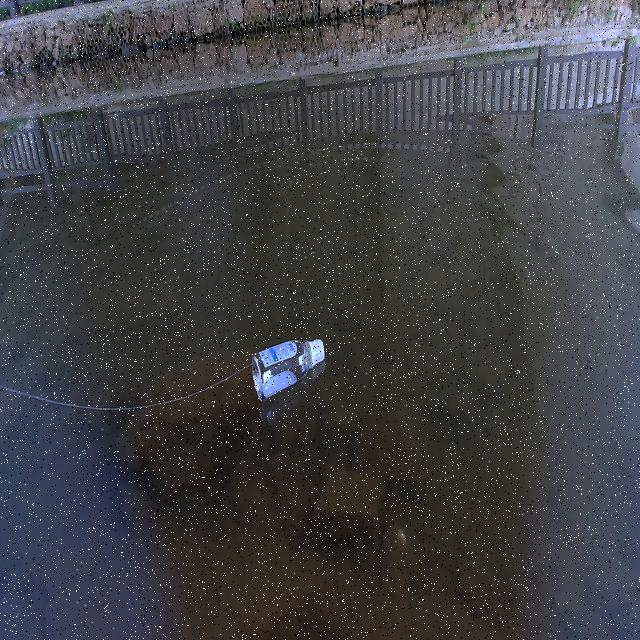Bottle: (252, 336, 326, 405)
